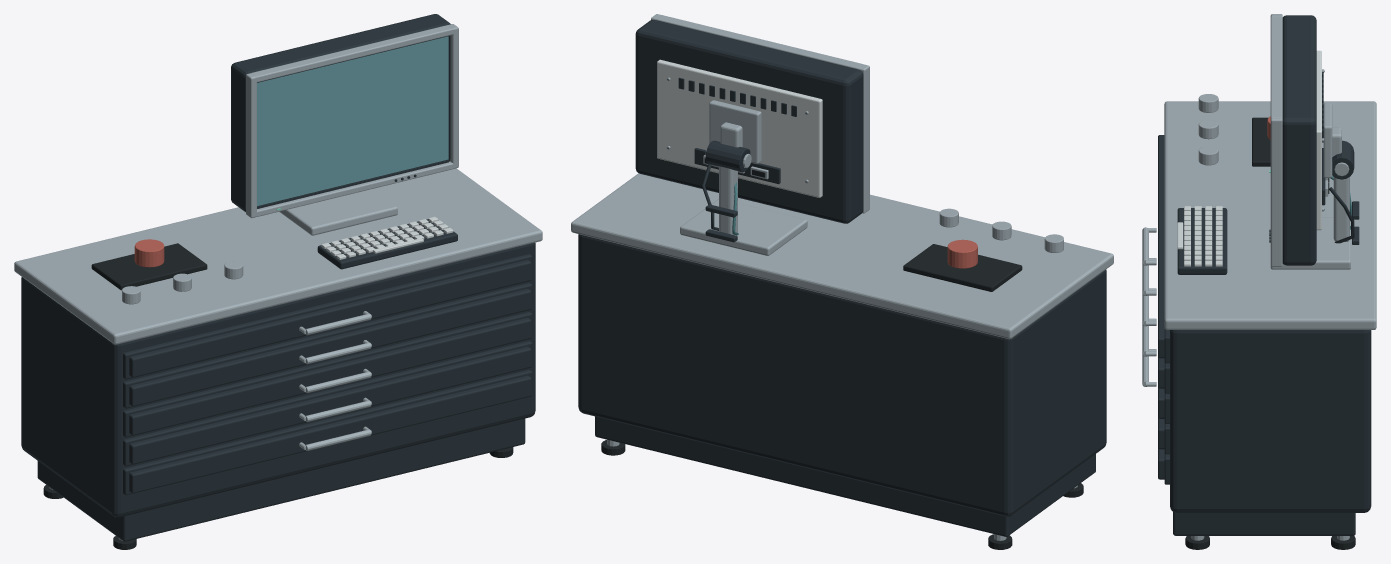
Rendered from RD_TestControlConsole.fbx.
3 renders of one model, left to right at view 1: azimuth 30°, elevation 25°; view 2: azimuth 150°, elevation 25°; view 3: azimuth 270°, elevation 25°, orthographic. The views are drawn at different scales.
Parts seen in each view (by area): view 1: RD_TestControlConsole; view 2: RD_TestControlConsole; view 3: RD_TestControlConsole.
Part boxes in pixels (<box>): RD_TestControlConsole: <box>14,14,542,549</box>; RD_TestControlConsole: <box>571,14,1113,549</box>; RD_TestControlConsole: <box>1142,14,1376,549</box>.
Bounding box in the file's own units: 168 × 150 × 75.65.
